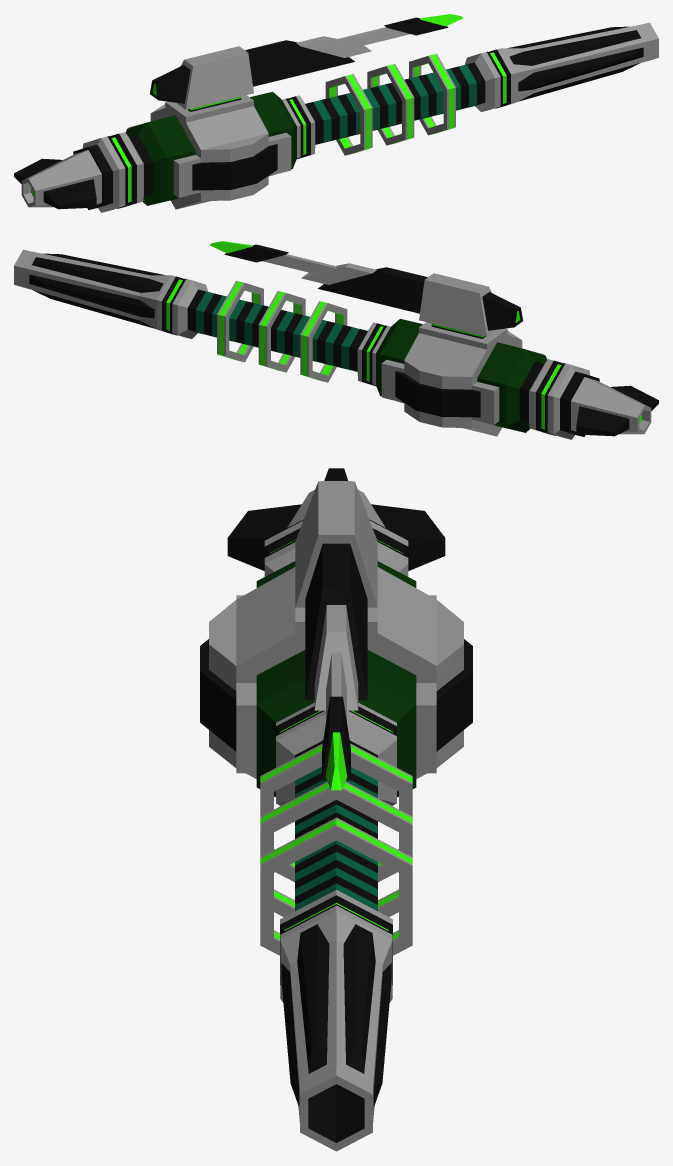
The model's file is SM_DefenseCannonBarrel.FBX.
The picture shows the model from 3 angles, top to bottom: view 1: azimuth 30°, elevation 25°; view 2: azimuth 150°, elevation 25°; view 3: azimuth 270°, elevation 25°; orthographic projection. The views are drawn at different scales.
Visible parts, largest first — view 1: Box003; view 2: Box003; view 3: Box003.
Boxes of the visible parts, x1,y1,x2,y2 form: Box003: (14, 14, 658, 212); Box003: (14, 241, 658, 439); Box003: (200, 468, 472, 1151).
Size of the model in its own units: 11943 by 2637 by 2273.
